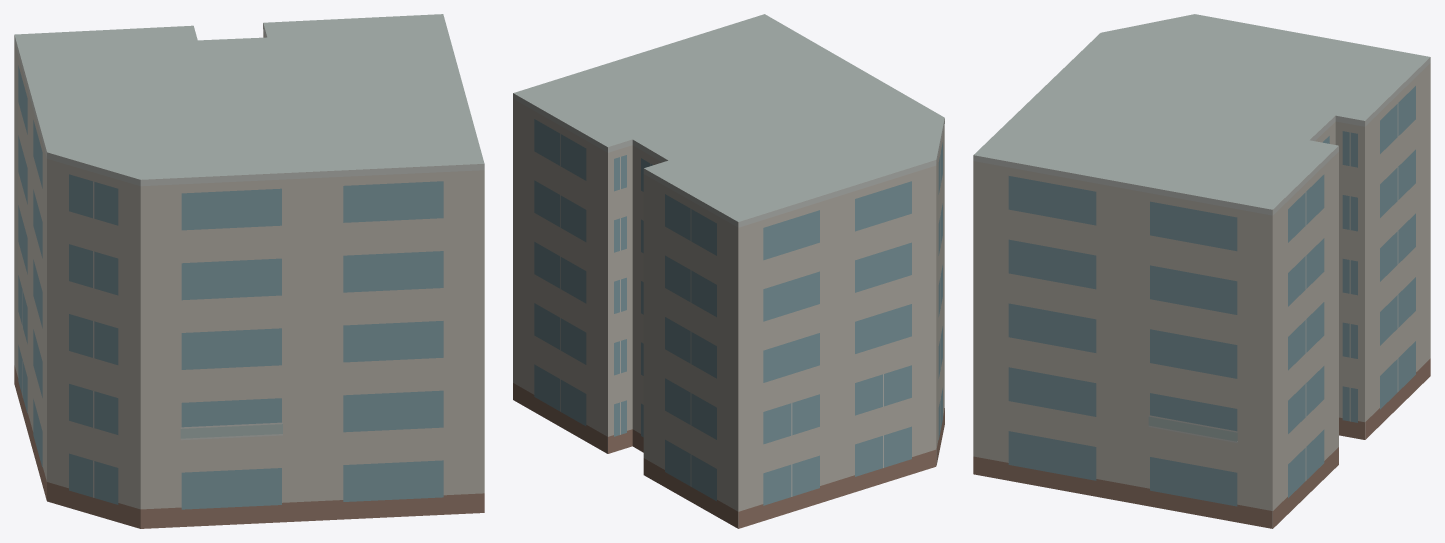
File: survey-upis-32672307.glb
3 views of the same model, side by side, from view 1: azimuth 30°, elevation 25°; view 2: azimuth 150°, elevation 25°; view 3: azimuth 270°, elevation 25° (orthographic). The views are drawn at different scales.
Visible parts, largest first — view 1: survey-upis-32672307.tmp; view 2: survey-upis-32672307.tmp; view 3: survey-upis-32672307.tmp.
Boxes of the visible parts, left/top/right/bottom form: survey-upis-32672307.tmp: left=14, top=14, right=484, bottom=528; survey-upis-32672307.tmp: left=513, top=14, right=944, bottom=528; survey-upis-32672307.tmp: left=973, top=14, right=1430, bottom=528.
Size of the model in its own units: 17.38 by 13.2 by 17.15.
